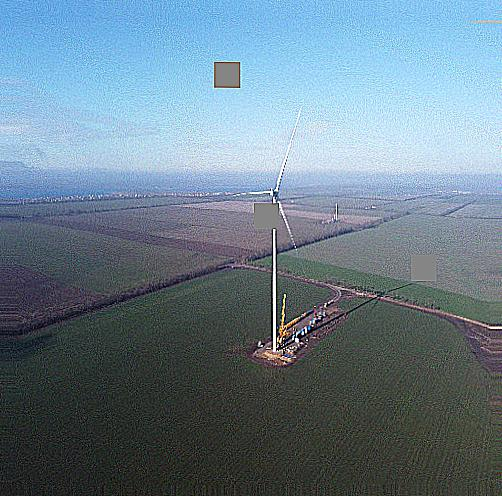wind turbine: (224, 106, 307, 351)
